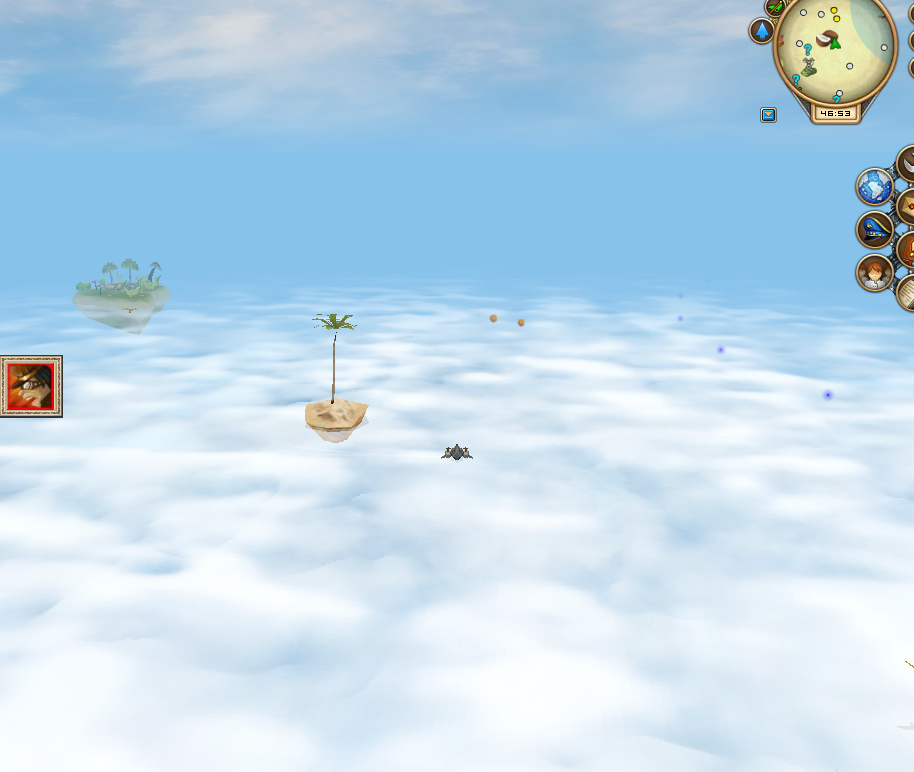coconut: (487, 310, 499, 326), (514, 315, 527, 329)
palm: (295, 307, 375, 444)
